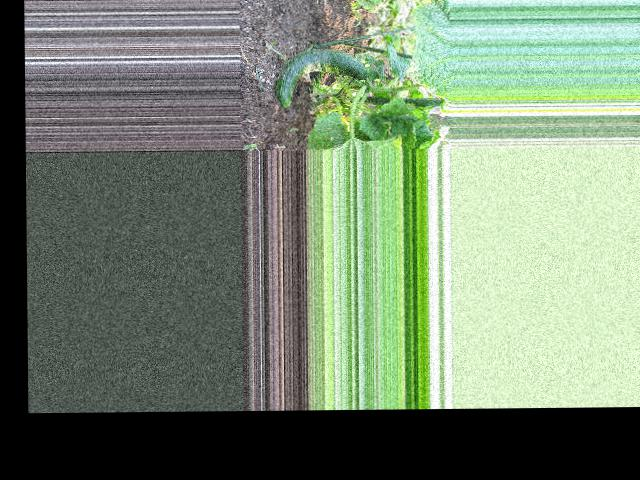cucumber: (275, 47, 369, 108)
